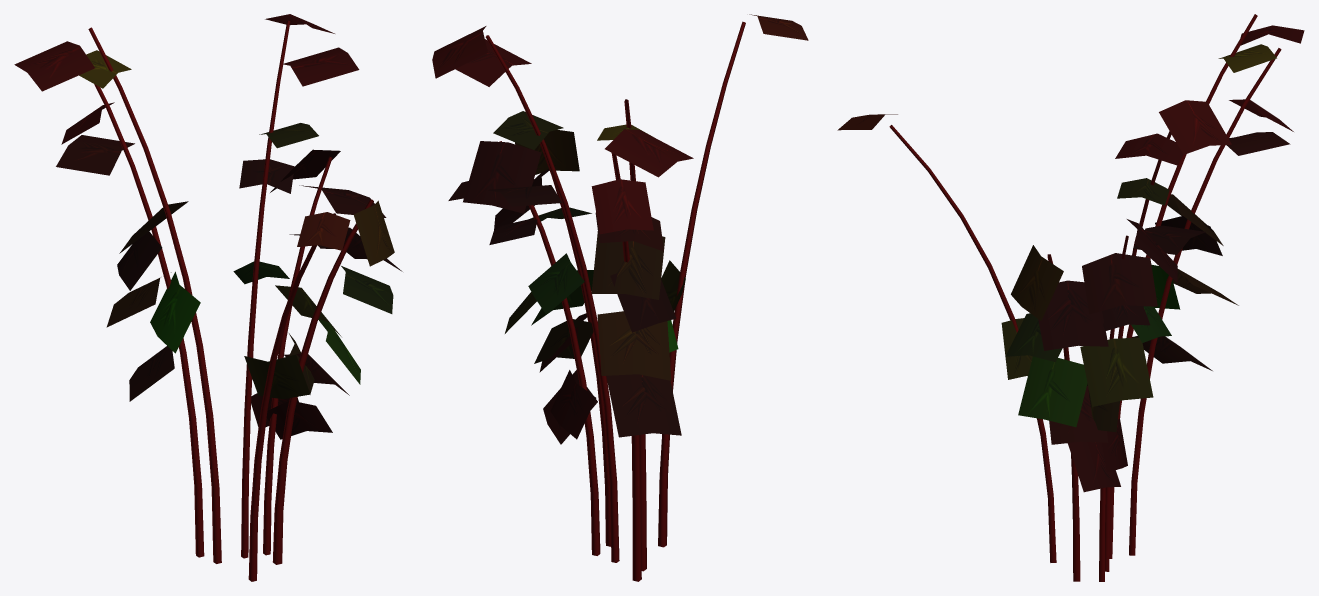
Rendered from veg_bamboo2_card.glb.
3 views of the same model, side by side, from view 1: azimuth 30°, elevation 25°; view 2: azimuth 150°, elevation 25°; view 3: azimuth 270°, elevation 25° (orthographic). The views are drawn at different scales.
Visible parts, largest first — view 1: bamboo_2; view 2: bamboo_2; view 3: bamboo_2.
Boxes of the visible parts, bbox=[...] form: bamboo_2: bbox=[14, 14, 402, 581]; bamboo_2: bbox=[432, 14, 808, 581]; bamboo_2: bbox=[837, 14, 1304, 581].
Bounding box in the file's own units: 5.43 × 9.5 × 7.81.
Materials: 2 (1 with a texture image).
